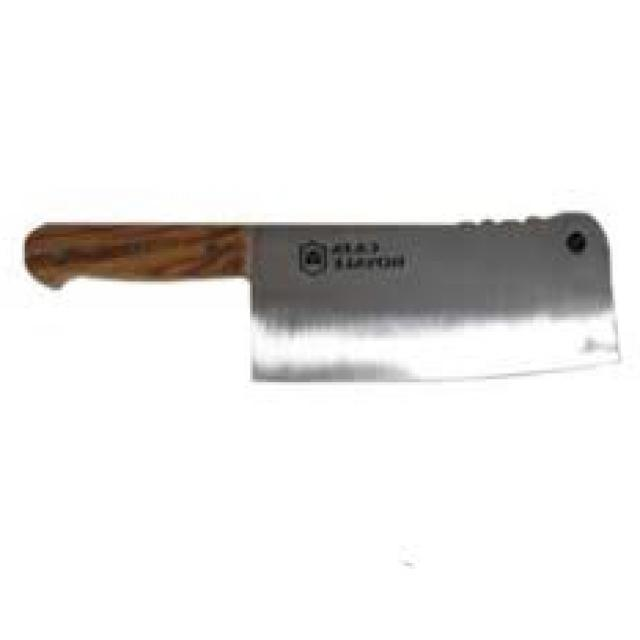Knife: (25, 212, 619, 380)
